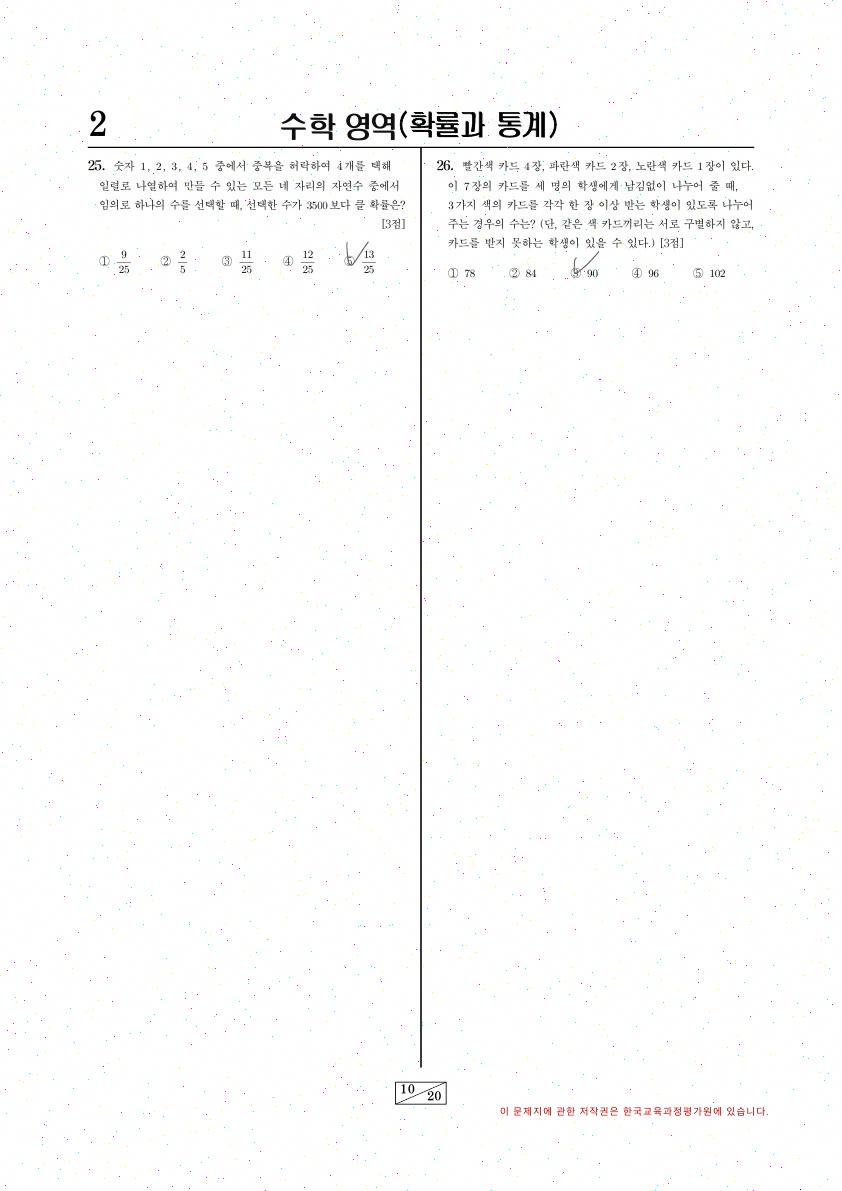question: (425, 151, 766, 300), (78, 148, 414, 294)
